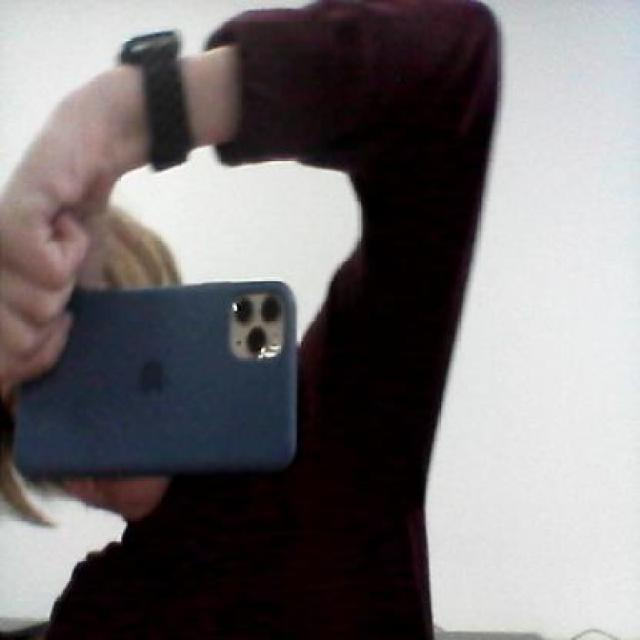phone: (0, 279, 328, 506)
